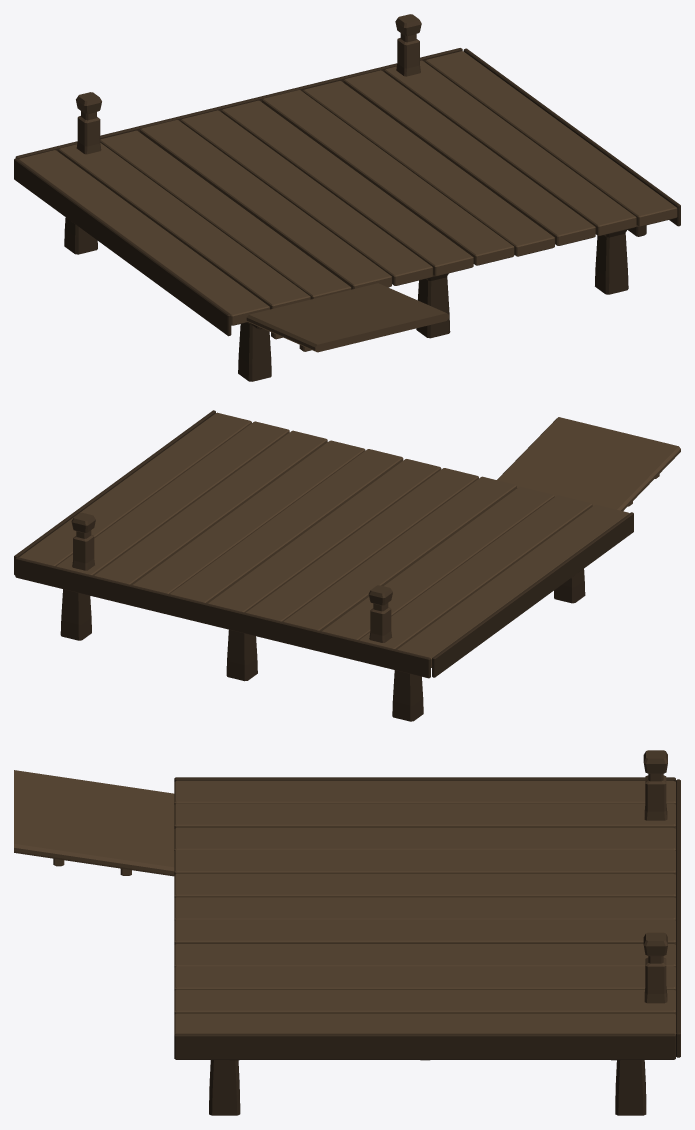
File: SM_Village_Quay.glb
3 renders of one model, top to bottom at view 1: azimuth 30°, elevation 25°; view 2: azimuth 150°, elevation 25°; view 3: azimuth 270°, elevation 25°, orthographic. The views are drawn at different scales.
Visible parts, largest first — view 1: SM_VillageQuay_Deck, SM_VillageQuay_Frame, SM_VillageQuay_Ramp, SM_VillageQuay_Piles, SM_VillageQuay_Bollards; view 2: SM_VillageQuay_Deck, SM_VillageQuay_Frame, SM_VillageQuay_Ramp, SM_VillageQuay_Piles, SM_VillageQuay_Bollards; view 3: SM_VillageQuay_Deck, SM_VillageQuay_Frame, SM_VillageQuay_Ramp, SM_VillageQuay_Piles, SM_VillageQuay_Bollards.
Boxes of the visible parts, x1,y1,x2,y2 form: SM_VillageQuay_Deck: (18,51,677,325); SM_VillageQuay_Frame: (14,48,680,336); SM_VillageQuay_Ramp: (246,283,448,352); SM_VillageQuay_Piles: (64,217,628,381); SM_VillageQuay_Bollards: (76,14,421,154); SM_VillageQuay_Deck: (19,412,629,667); SM_VillageQuay_Frame: (14,410,633,678); SM_VillageQuay_Ramp: (497,417,680,511); SM_VillageQuay_Piles: (60,569,585,721); SM_VillageQuay_Bollards: (71,512,392,642); SM_VillageQuay_Deck: (174,780,675,1034); SM_VillageQuay_Frame: (174,777,680,1060); SM_VillageQuay_Ramp: (14,770,174,876); SM_VillageQuay_Piles: (209,1060,646,1115); SM_VillageQuay_Bollards: (643,750,667,1003).
Bounding box in the file's own units: 6.1 × 1.78 × 6.65.
